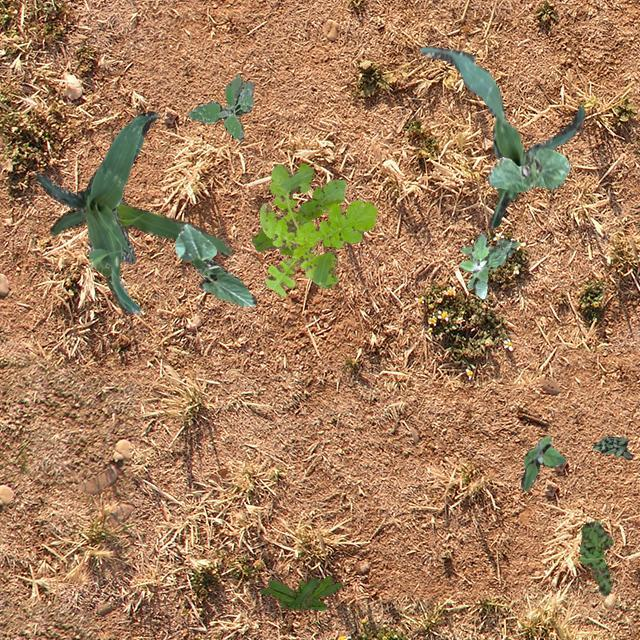crop: (418, 45, 584, 228), (36, 110, 160, 314), (48, 196, 232, 314), (174, 222, 256, 306), (486, 146, 568, 192)
weed: (258, 162, 374, 296), (250, 178, 344, 254), (188, 74, 252, 140), (458, 232, 518, 298), (258, 574, 340, 610), (520, 436, 564, 490), (580, 520, 612, 594), (592, 436, 632, 458)
